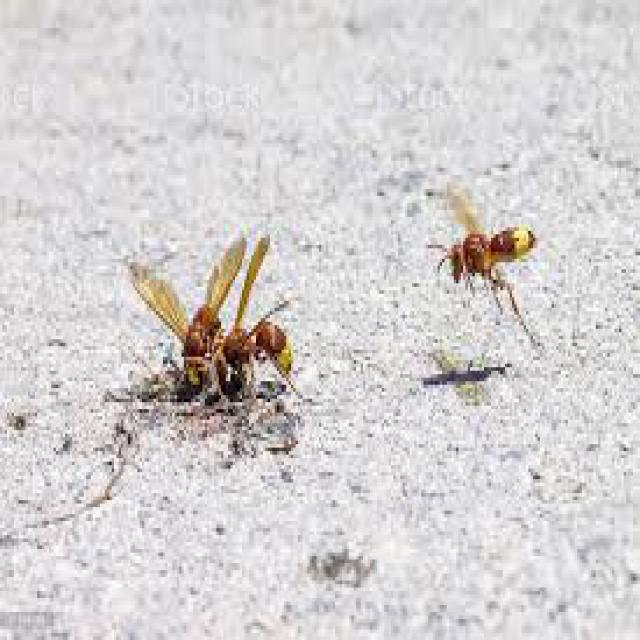Vespa Orientalis: (102, 226, 240, 416), (193, 226, 318, 428), (418, 191, 568, 343)
